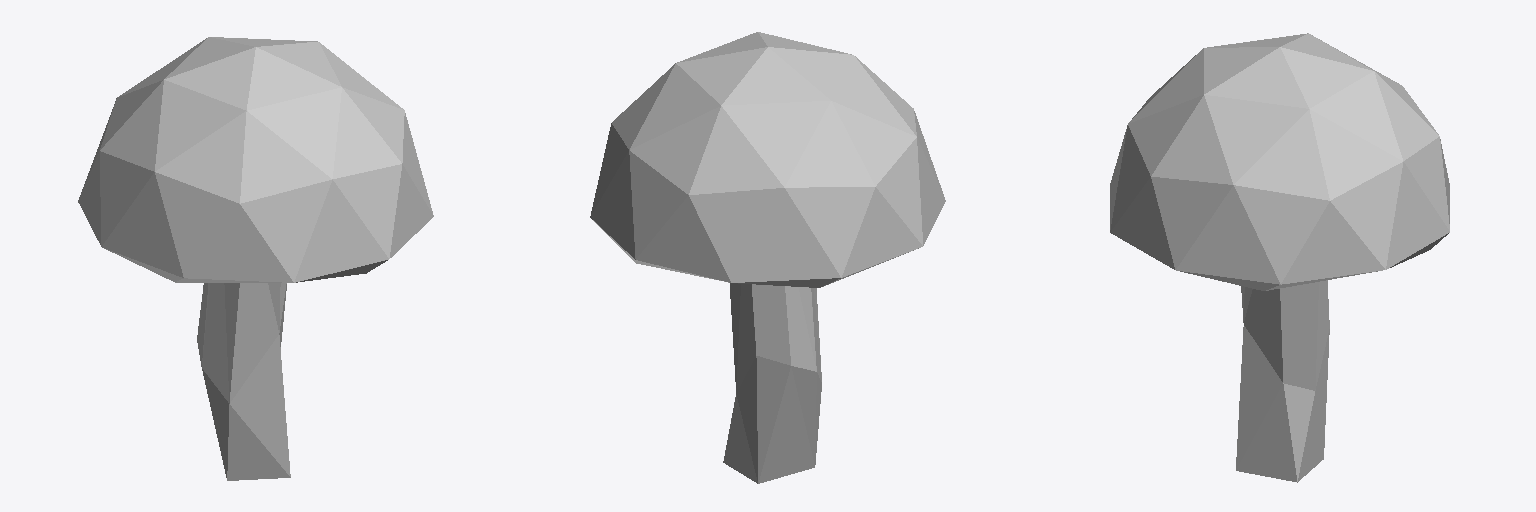
The model's file is mushroom4.obj.
3 views of the same model, side by side, from view 1: azimuth 30°, elevation 25°; view 2: azimuth 150°, elevation 25°; view 3: azimuth 270°, elevation 25° (orthographic).
Visible parts, largest first — view 1: Mushroom1_2.001_Cylinder.048; view 2: Mushroom1_2.001_Cylinder.048; view 3: Mushroom1_2.001_Cylinder.048.
Boxes of the visible parts, x1,y1,x2,y2 form: Mushroom1_2.001_Cylinder.048: [78, 37, 433, 480]; Mushroom1_2.001_Cylinder.048: [590, 32, 945, 483]; Mushroom1_2.001_Cylinder.048: [1110, 33, 1449, 482].
Bounding box in the file's own units: 0.5647 × 0.728 × 0.5379.